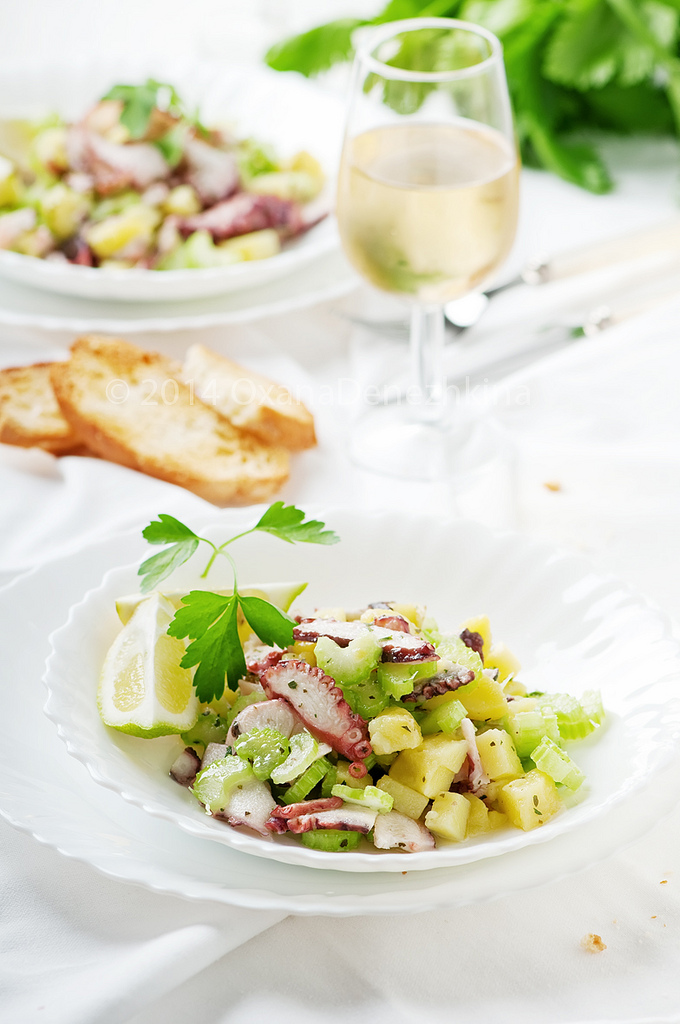slice of bread: (47, 335, 344, 496)
